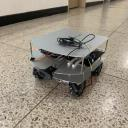cart: (29, 28, 110, 97)
